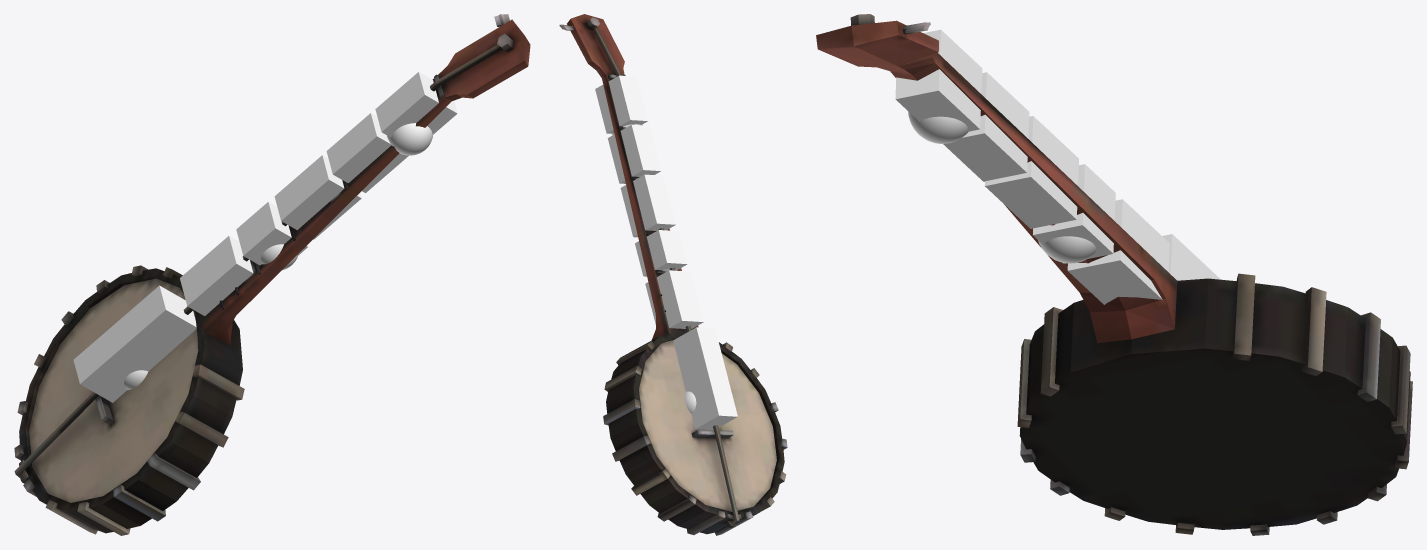
The model's file is BanjoAnchor.fbx.
The picture shows the model from 3 angles, left to right: view 1: azimuth 30°, elevation 25°; view 2: azimuth 150°, elevation 25°; view 3: azimuth 270°, elevation 25°; orthographic projection. The views are drawn at different scales.
Parts seen in each view (by area): view 1: Banjo_AtlasTarget, StrumBar, Fret5, Fret3, Fret2, Fret1, Fret4, UnstickDistance; view 2: Banjo_AtlasTarget, StrumBar, Fret5, Fret3, Fret2, Fret1, Fret4; view 3: Banjo_AtlasTarget, Fret3, Fret5, Fret2, Fret1, Fret4, StrumBar, UnstickDistance, Center.
Part boxes in pixels (box(x1,y1,x2,y2)): Banjo_AtlasTarget: box(14, 14, 530, 535); StrumBar: box(73, 285, 196, 402); Fret5: box(180, 236, 253, 315); Fret3: box(274, 155, 361, 239); Fret2: box(326, 113, 408, 192); Fret1: box(375, 72, 457, 137); Fret4: box(236, 201, 307, 265); UnstickDistance: box(387, 123, 432, 155); Banjo_AtlasTarget: box(559, 14, 787, 535); StrumBar: box(673, 327, 737, 430); Fret5: box(645, 270, 703, 328); Fret3: box(620, 174, 675, 237); Fret2: box(607, 124, 661, 183); Fret1: box(595, 75, 647, 133); Fret4: box(635, 230, 687, 276); Banjo_AtlasTarget: box(816, 14, 1412, 535); Fret3: box(984, 116, 1078, 228); Fret5: box(1067, 199, 1169, 304); Fret2: box(943, 72, 1029, 181); Fret1: box(895, 29, 982, 131); Fret4: box(1033, 164, 1115, 263); StrumBar: box(1162, 234, 1220, 280); UnstickDistance: box(908, 111, 968, 143); Center: box(1038, 236, 1096, 263).
Size of the model in its own units: 45.36 by 59.56 by 43.32.
